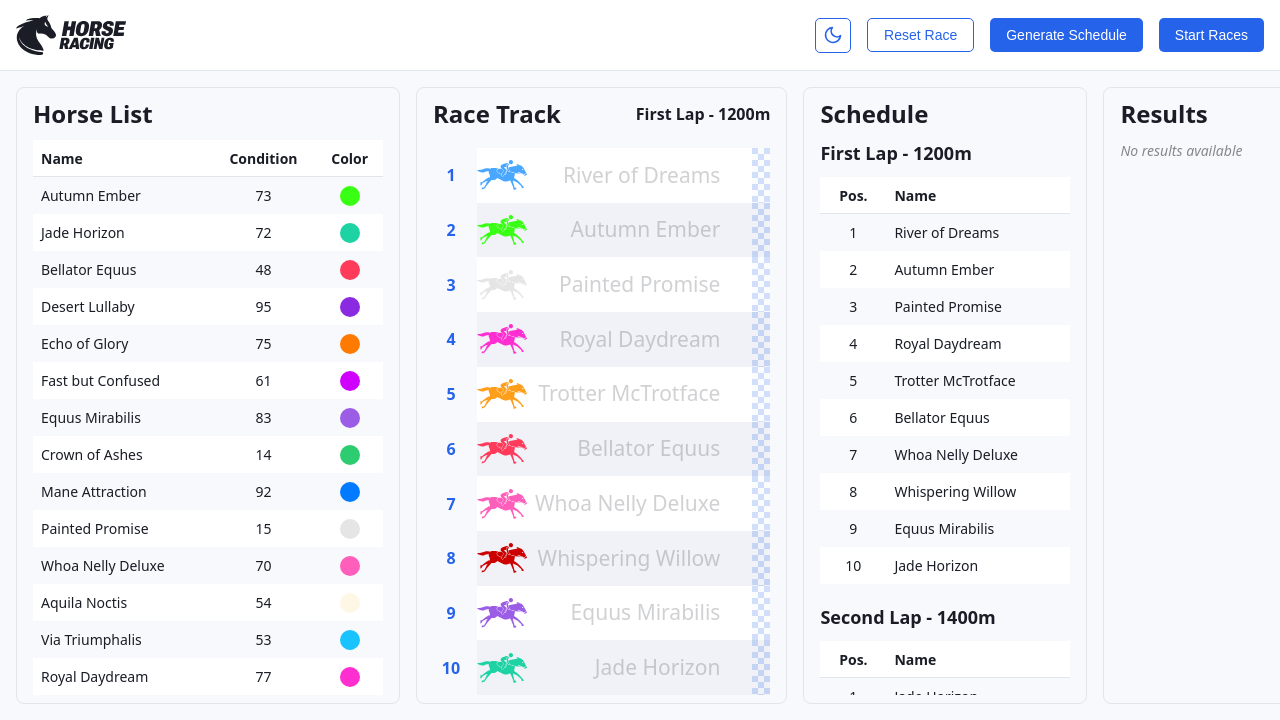
Race Flow › shows countdown after starting race
Click the button "Start Races": {"x": 1212, "y": 35} [1159,18,1264,52]
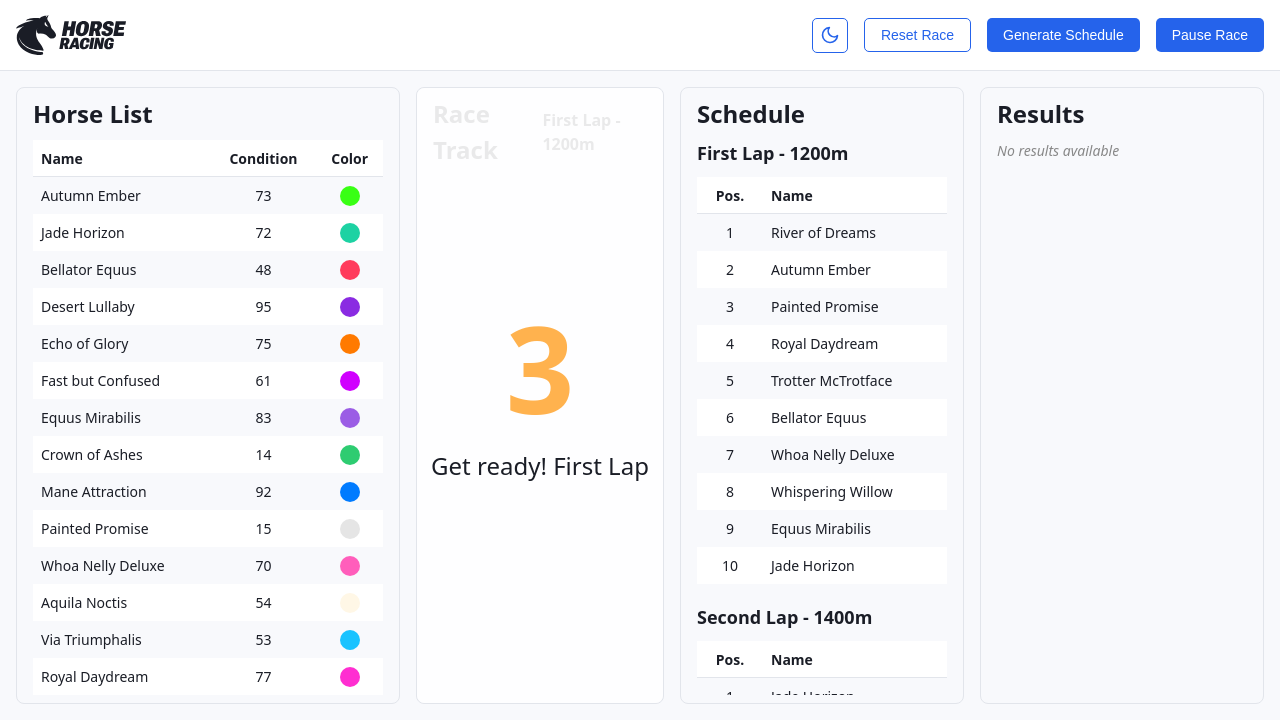
Now the text "Get ready!" is shown, box [431,449,649,482]
